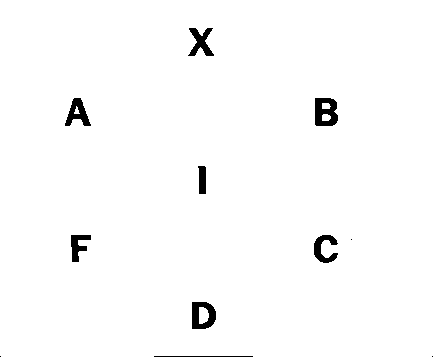I: (194, 163, 214, 203)
